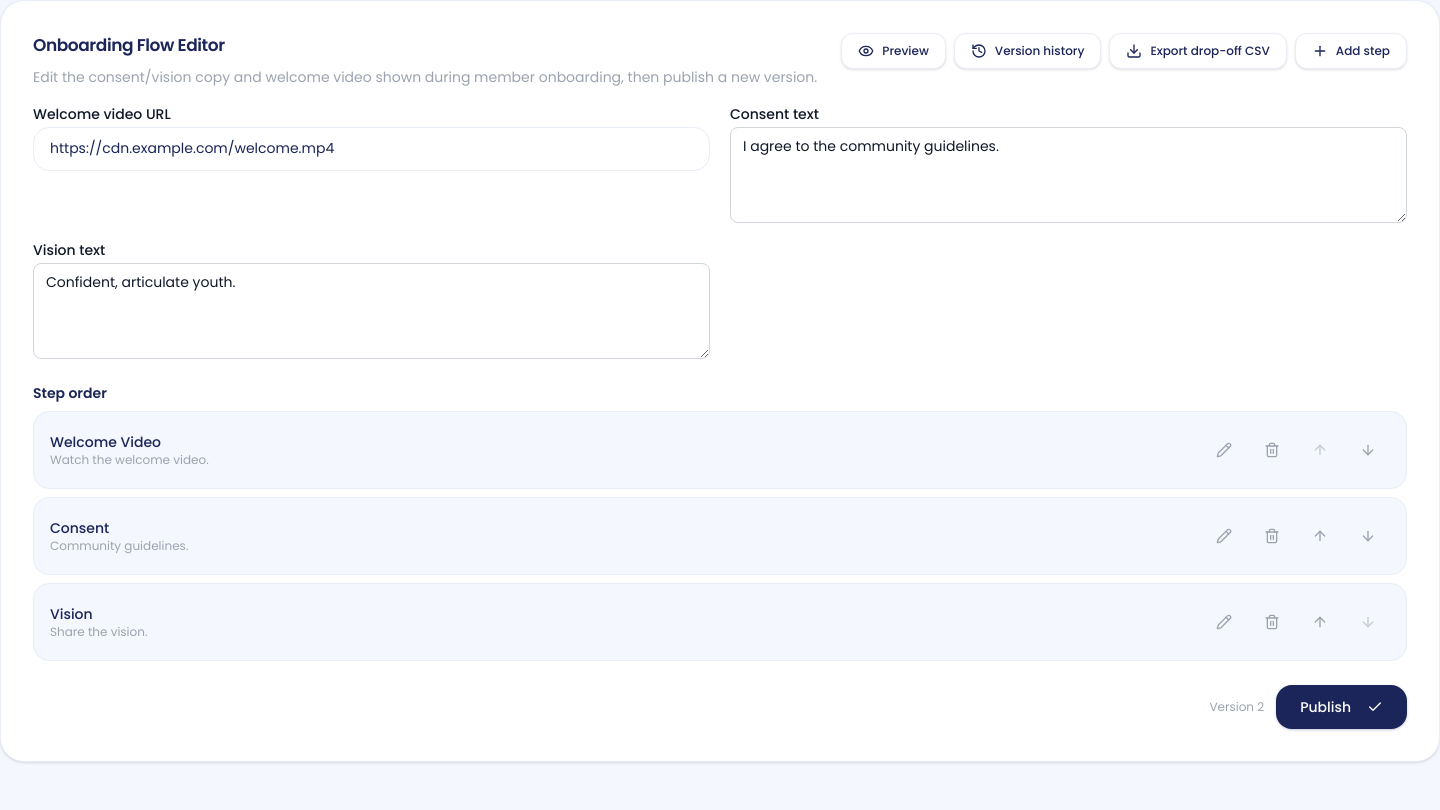
Test case: FlowEditor step editing › exports the drop-off CSV from the header action
The image size is (1440, 810).
Check: the field showing "https://cdn.example.com/welcome.mp4" is shown, box left=33, top=126, right=710, bottom=170
Click the button "Export drop-off CSV" at (1198, 51), box left=1109, top=33, right=1287, bottom=69
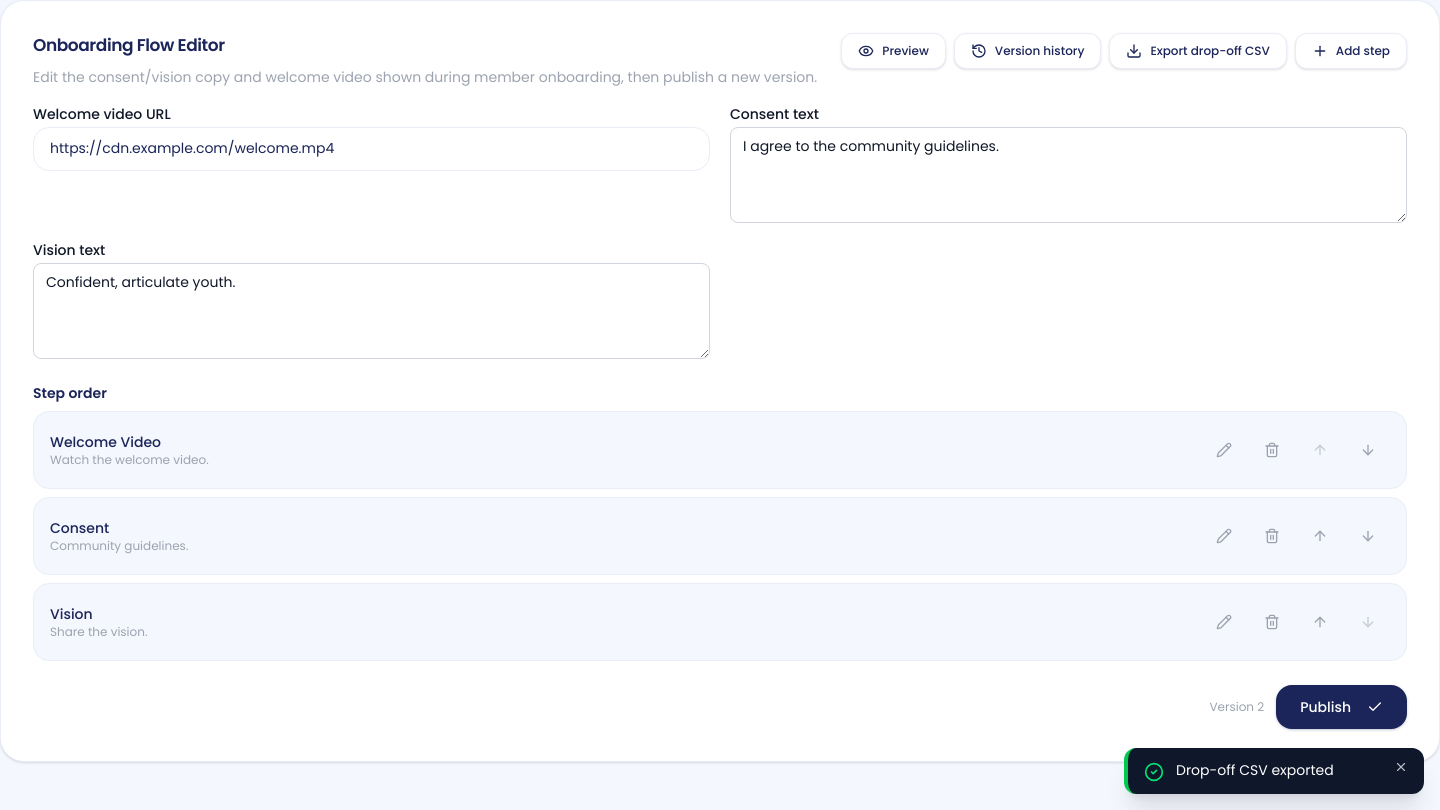
Check: the text "Drop-off CSV exported" is shown, box left=1176, top=760, right=1334, bottom=780
